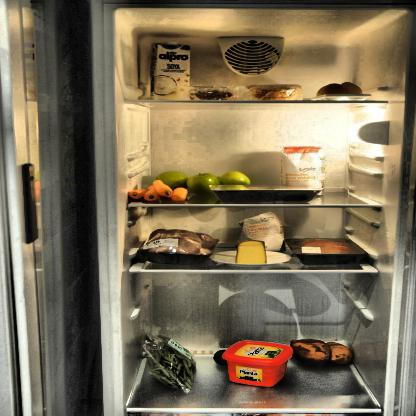apple: (154, 170, 252, 194)
beef: (296, 236, 358, 258)
butter: (223, 342, 295, 388)
carrot: (126, 180, 184, 205)
cheese: (235, 240, 270, 265)
chicken: (140, 228, 214, 264)
eggs: (315, 82, 370, 99)
green_beans: (140, 333, 196, 395)
milk: (149, 40, 195, 103)
shrimp: (188, 86, 240, 101)
sweet_potato: (289, 336, 354, 369)
